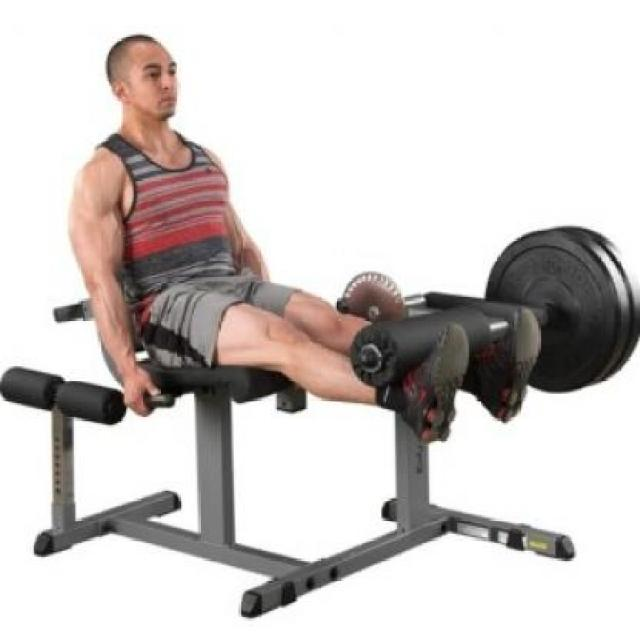leg extension: (0, 26, 586, 625)
